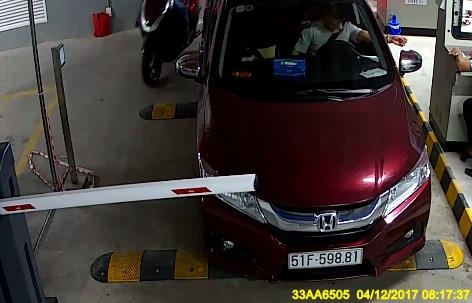plate: (278, 248, 370, 272)
